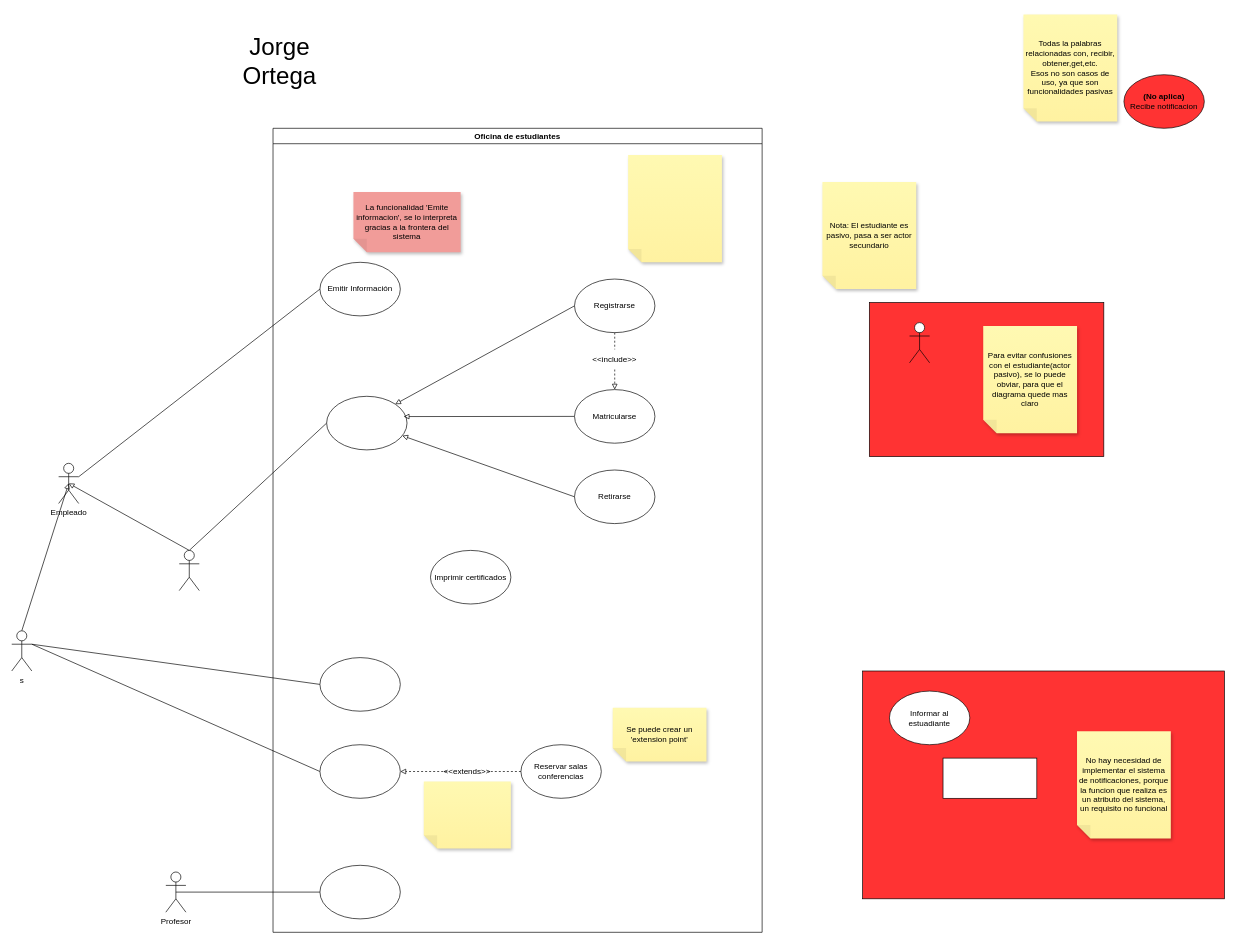
Image size: 1236x944. Some labels were removed from this diagram. The centre of each missing label's shape, as x and y in pixels:
<<abstract>> Administrar datos estudiante: point 366,423
<<actor>> Sistema de notificaciones: point 989,777
Al estar la palabra 'pueden', especifica algo alternativo: point 468,816
Crear cursos: point 359,771
Emitir certificado: point 359,684
Empleado Servicio: point 189,570
Enviar informacion calificaciones: point 359,892
Estudiante: point 919,342
Si se pone una relacion de <<include>> se debe realizar al instante: point 675,209
